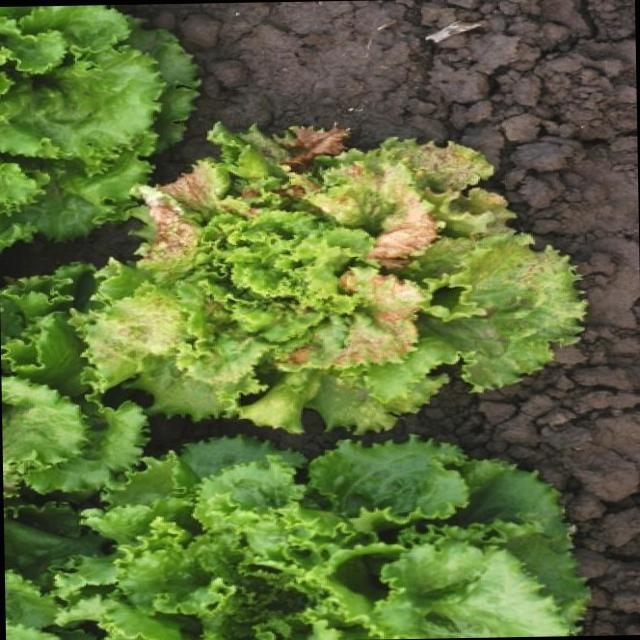Healthy: (132, 169, 495, 383)
